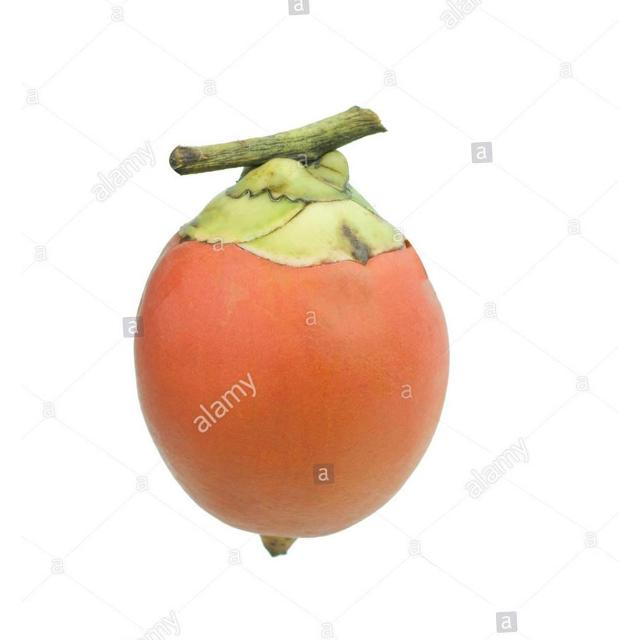good: (133, 138, 452, 542)
